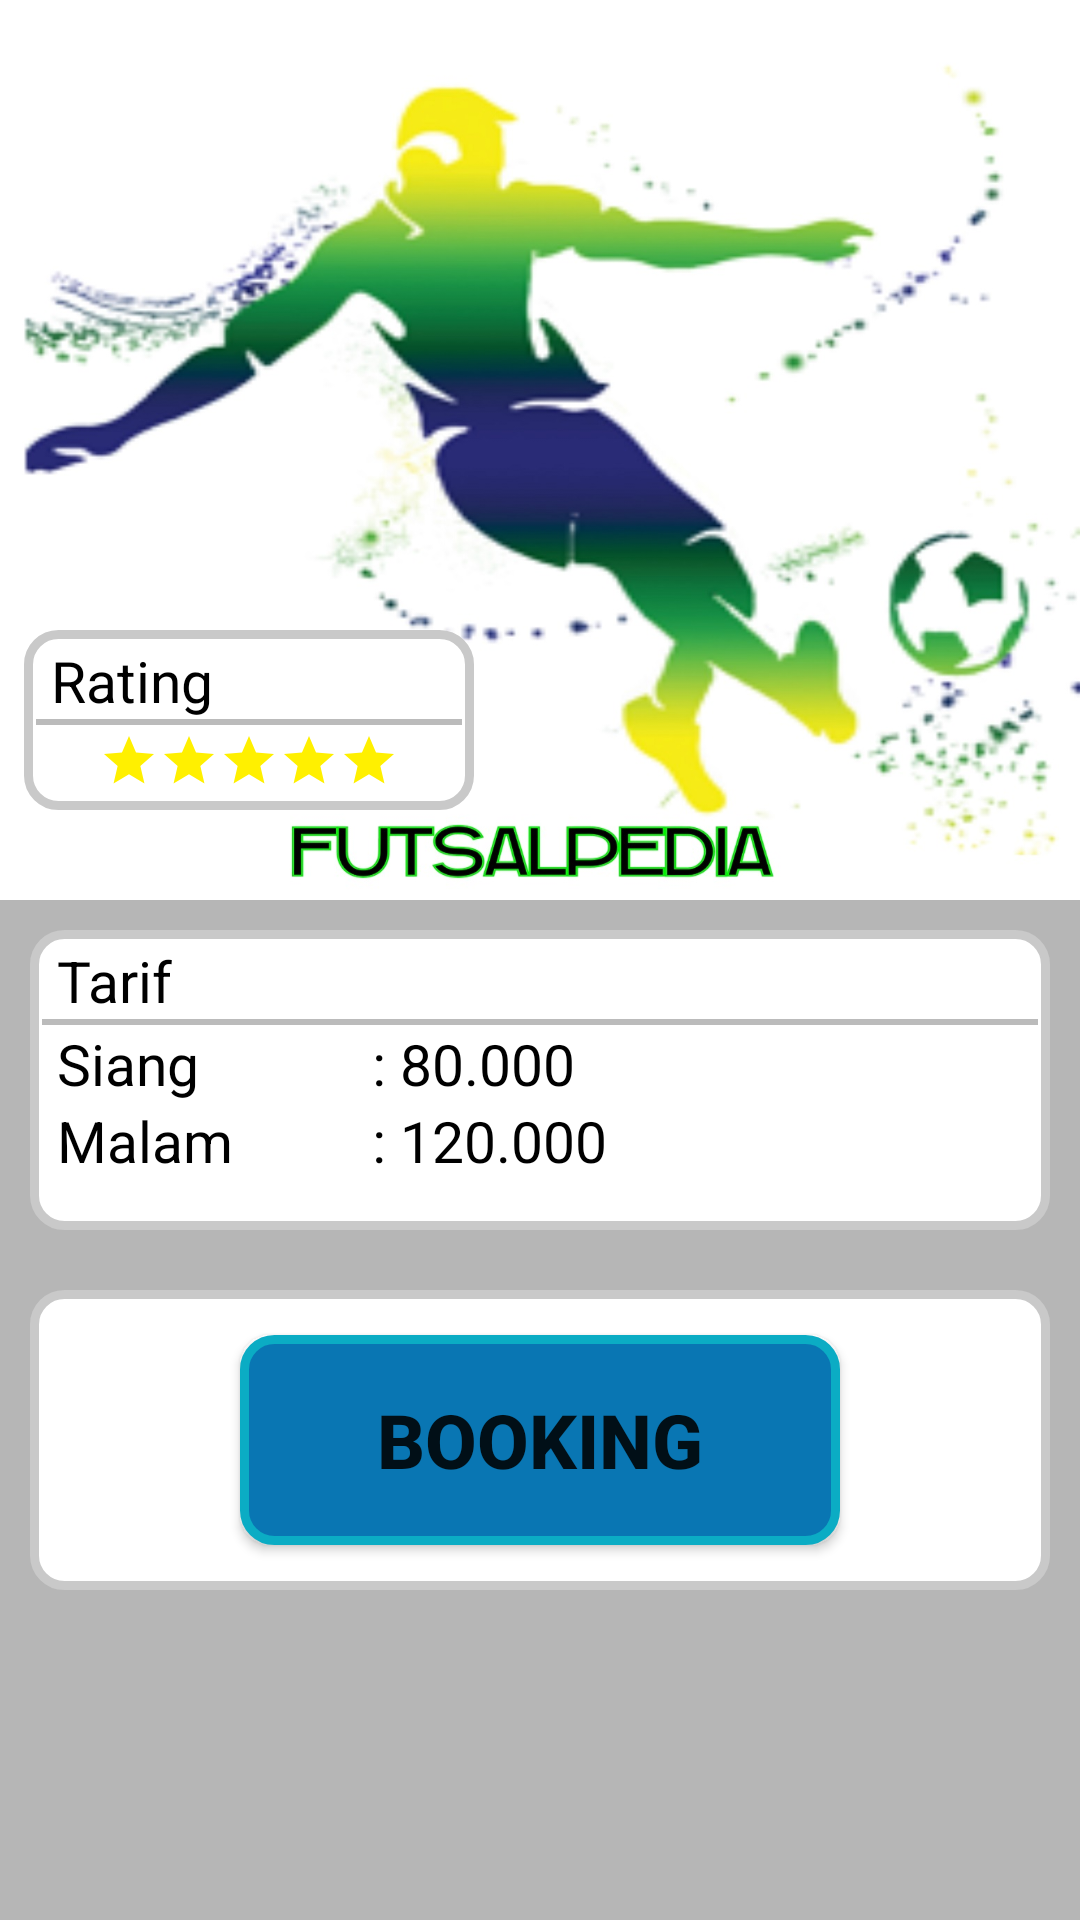

Where to tap for icons on this 1080 x 1920 app screen, as point (x, y):
star: point (129, 760), point (189, 760), point (249, 760), point (309, 760), point (369, 760)
